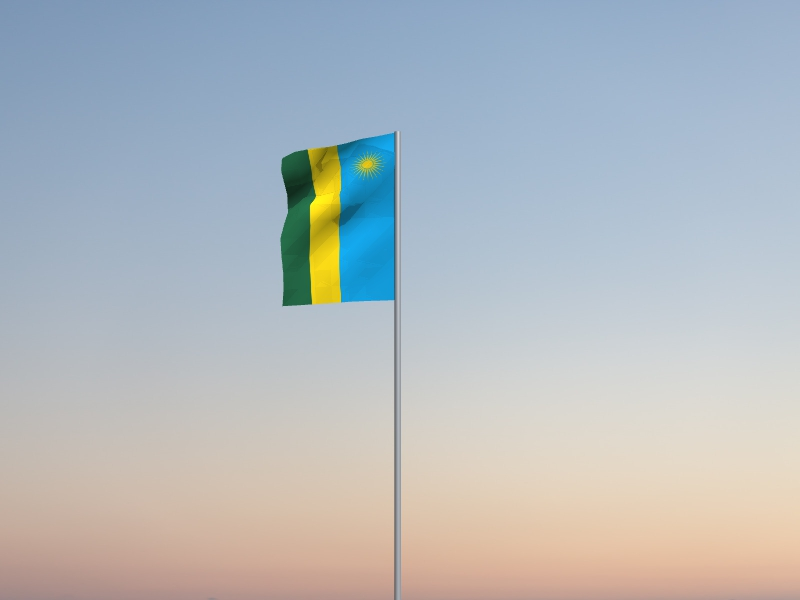rw: (280, 133, 394, 307)
